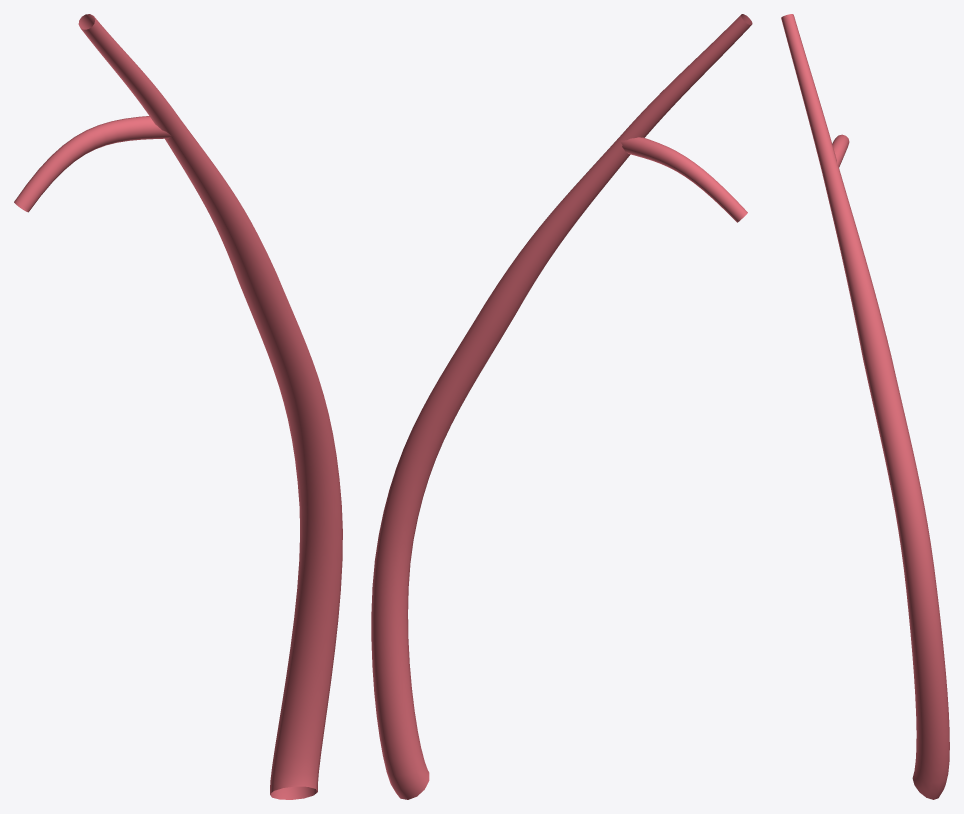
3 renders of one model, left to right at view 1: azimuth 30°, elevation 25°; view 2: azimuth 150°, elevation 25°; view 3: azimuth 270°, elevation 25°, orthographic. The views are drawn at different scales.
Visible parts, largest first — view 1: ZA_48bf39d5253914e2; view 2: ZA_48bf39d5253914e2; view 3: ZA_48bf39d5253914e2.
Boxes of the visible parts, x1=… form: ZA_48bf39d5253914e2: x1=14, y1=14, x2=342, y2=799; ZA_48bf39d5253914e2: x1=371, y1=14, x2=752, y2=799; ZA_48bf39d5253914e2: x1=781, y1=14, x2=949, y2=799.
Bounding box in the file's own units: 0.0147 × 0.0341 × 0.00772.
